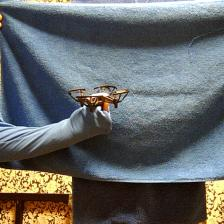drone: (68, 82, 130, 111)
